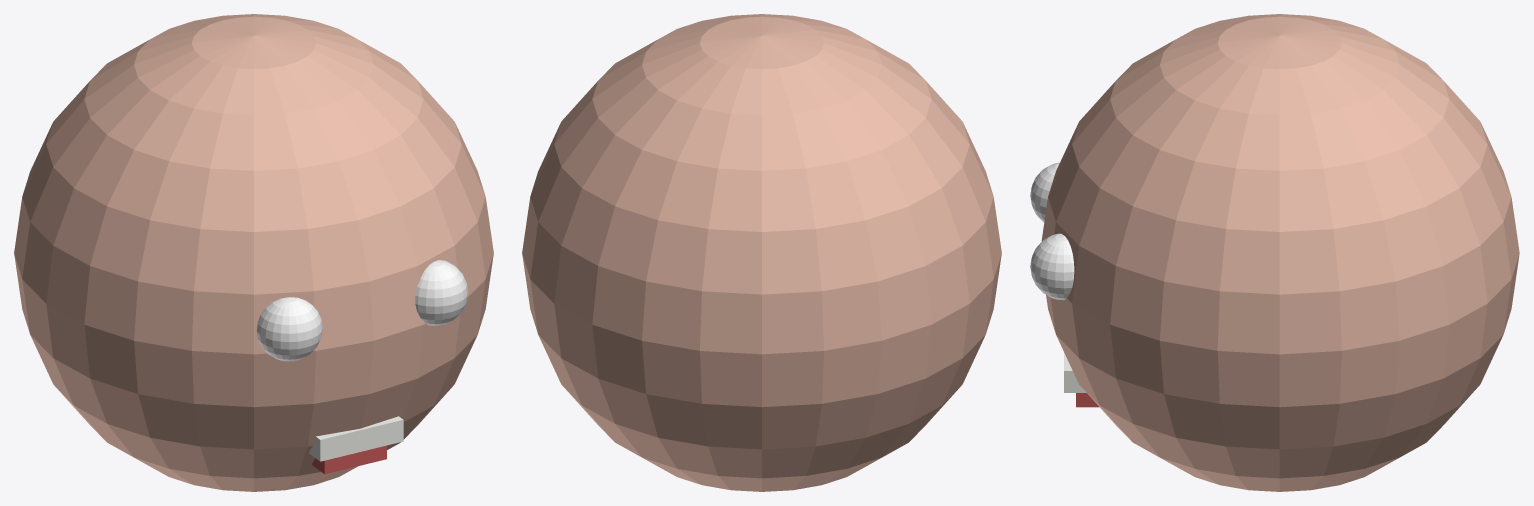
Rendered from bl-noskin.glb.
3 views of the same model, side by side, from view 1: azimuth 30°, elevation 25°; view 2: azimuth 150°, elevation 25°; view 3: azimuth 270°, elevation 25° (orthographic).
Visible parts, largest first — view 1: Head, Eyeball_R, Eyeball_L; view 2: Head; view 3: Head, Eyeball_L, Eyeball_R.
Boxes of the visible parts, bbox=[...] form: Head: bbox=[14, 14, 493, 491]; Eyeball_R: bbox=[256, 297, 322, 361]; Eyeball_L: bbox=[415, 260, 468, 325]; Head: bbox=[522, 14, 1001, 491]; Head: bbox=[1041, 14, 1519, 491]; Eyeball_L: bbox=[1030, 233, 1074, 300]; Eyeball_R: bbox=[1030, 162, 1059, 222].
Size of the model in its own units: 0.2 by 0.2 by 0.204.
